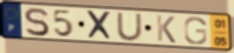5: (53, 9, 76, 38)
G: (182, 16, 209, 46)
K: (155, 14, 178, 45)
S: (22, 6, 51, 37)
U: (115, 12, 145, 43)
X: (84, 9, 115, 42)
